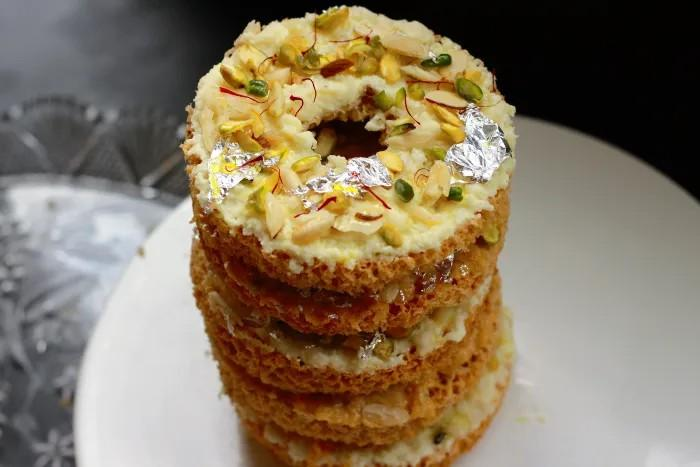Ghevar: (178, 0, 518, 296), (193, 188, 508, 331), (238, 337, 512, 467), (206, 275, 495, 390), (201, 234, 500, 333), (222, 364, 485, 440)
